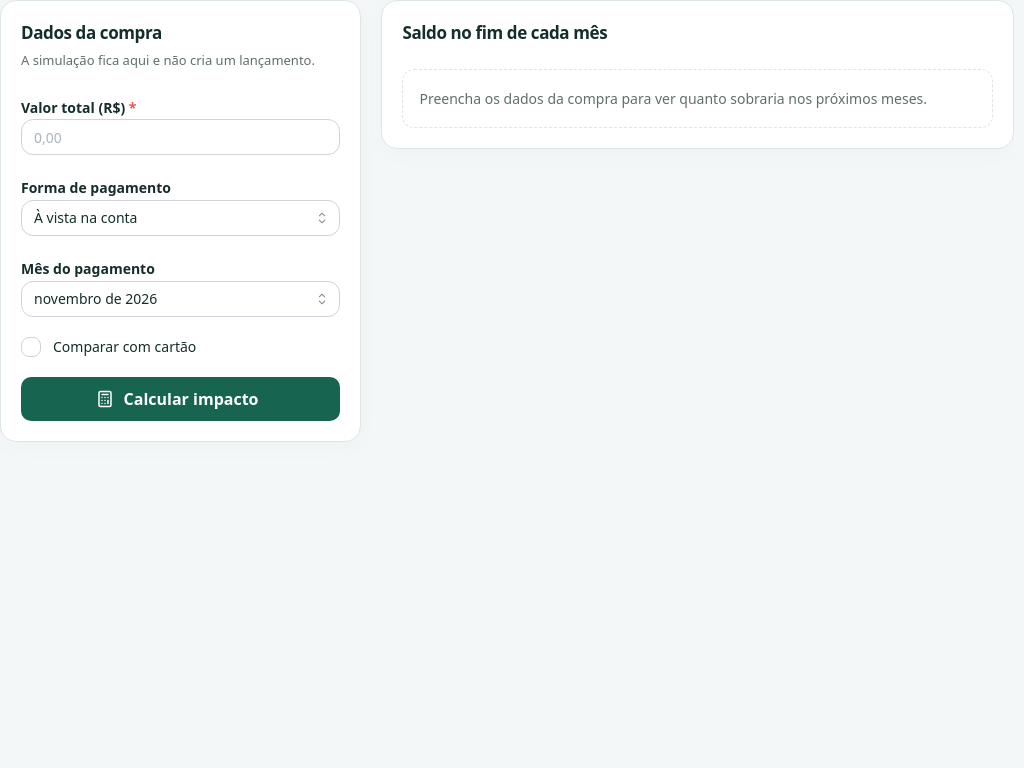
Test case: simula à vista com poucos campos e abre a comparação com cartão sob escolha
Expected: the field labelled "primeira fatura" is not shown
Type "120,00" into the field labelled "Valor total (R$) *". click: (181, 137)
box: [21,119,340,155]
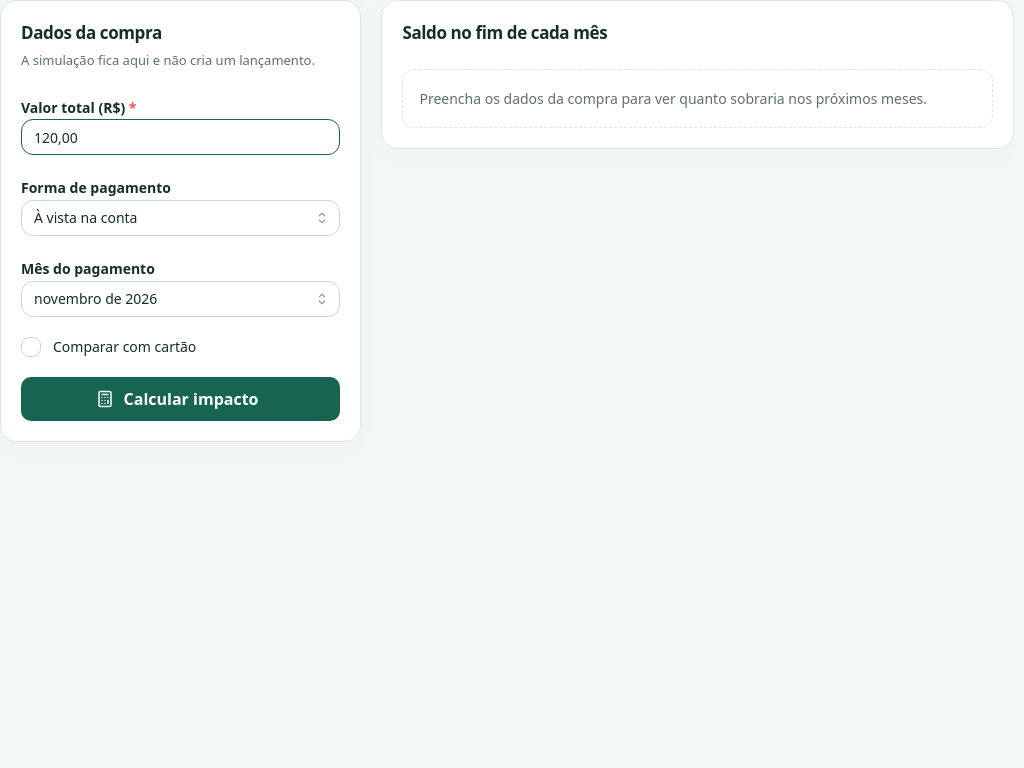
Click the button "Calcular impacto". click: (181, 399)
box: [21,377,340,421]
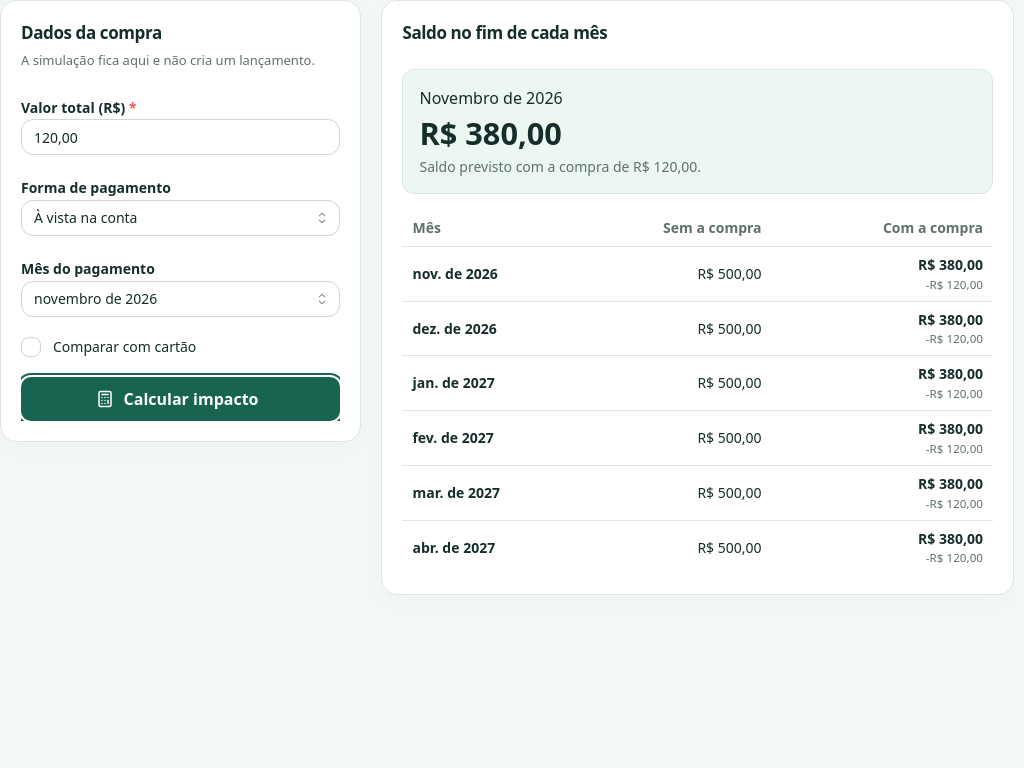
Expected: the heading "Qual opção preserva a reserva?" is not shown
Result: the 1st text "R$ 380,00" is shown at [420,112,562,154]
Click the checkbox labelled "Comparar com cartão". click: (31, 347)
box: [21,337,41,357]
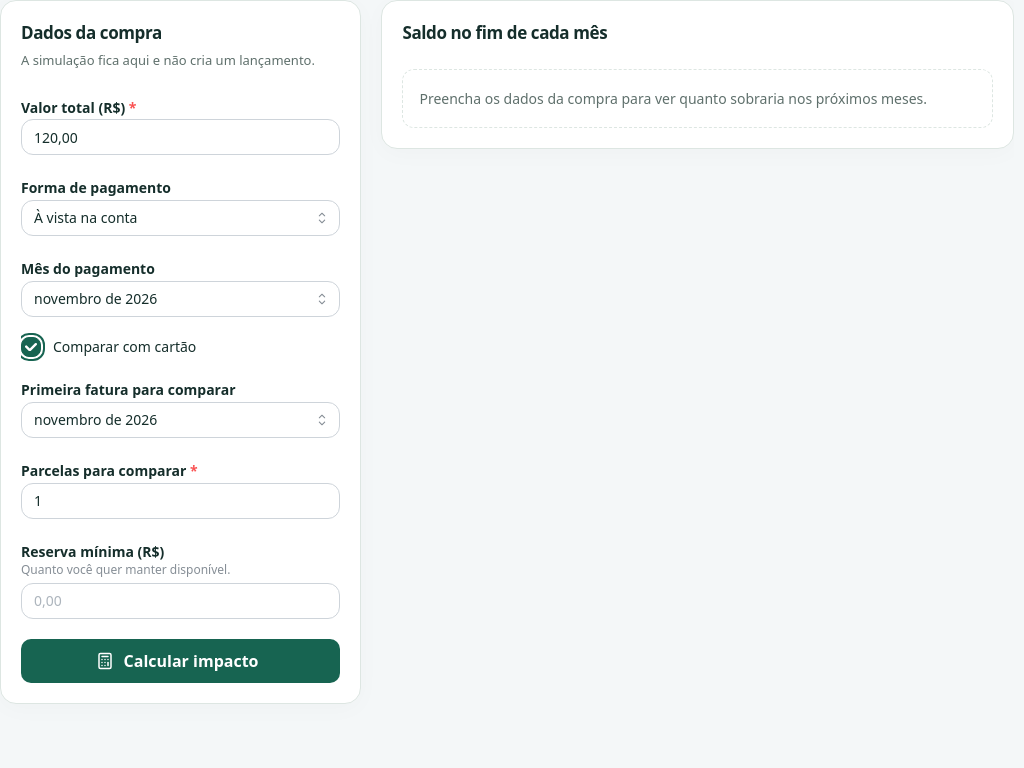
Result: the dropdown labelled "Primeira fatura para comparar" is shown at [21,402,340,438]
Replace the text in the number field labelled "Parcelas para comparar *" with "3". click: (181, 501)
box: [21,483,340,519]
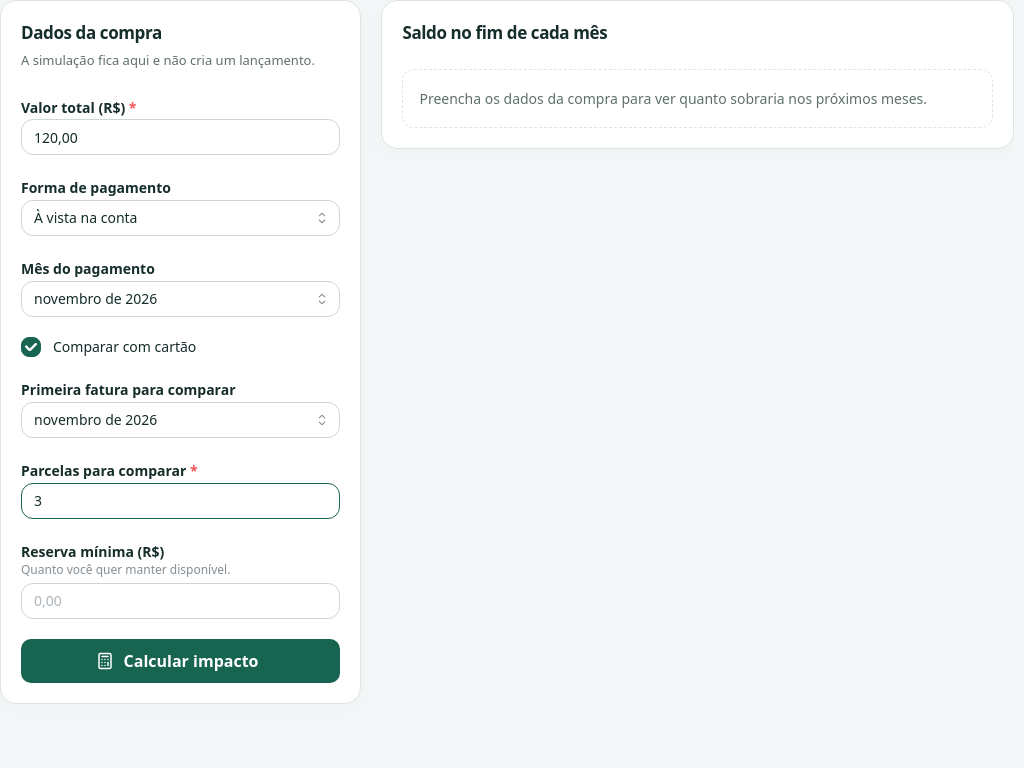
Click the button "Calcular impacto". click: (181, 661)
box: [21,639,340,683]
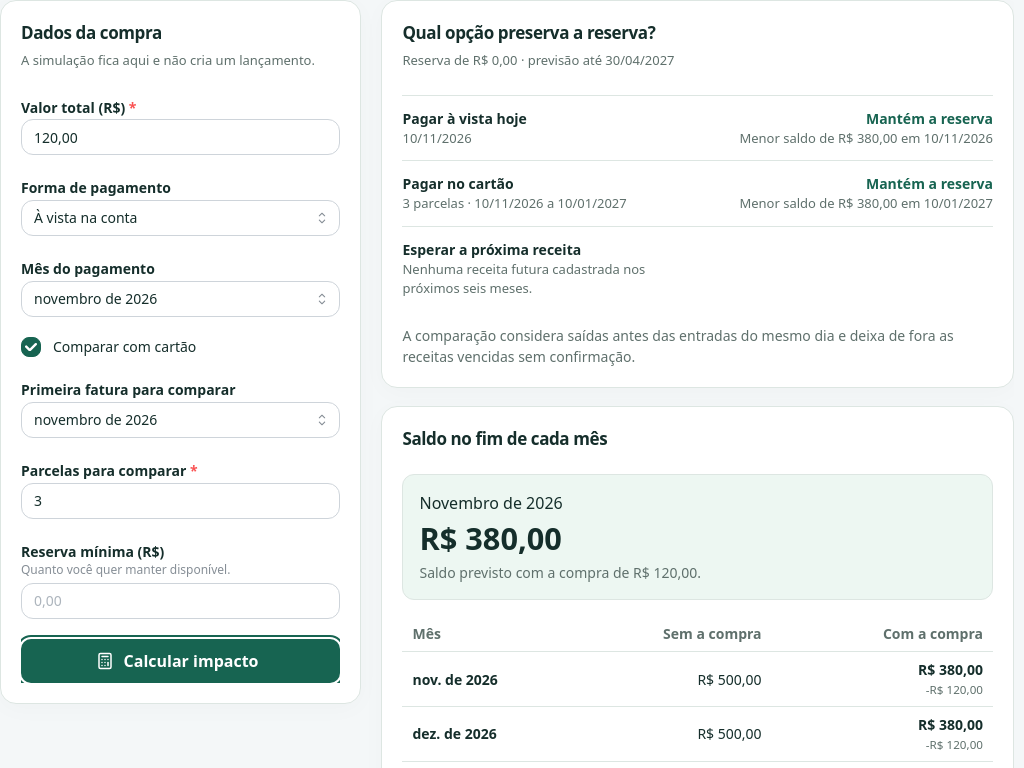
Result: the heading "Qual opção preserva a reserva?" is shown at [402,21,675,45]
Result: the text "3 parcelas · 10/11/2026 a 10/01/2027" is shown at [402,194,627,212]
